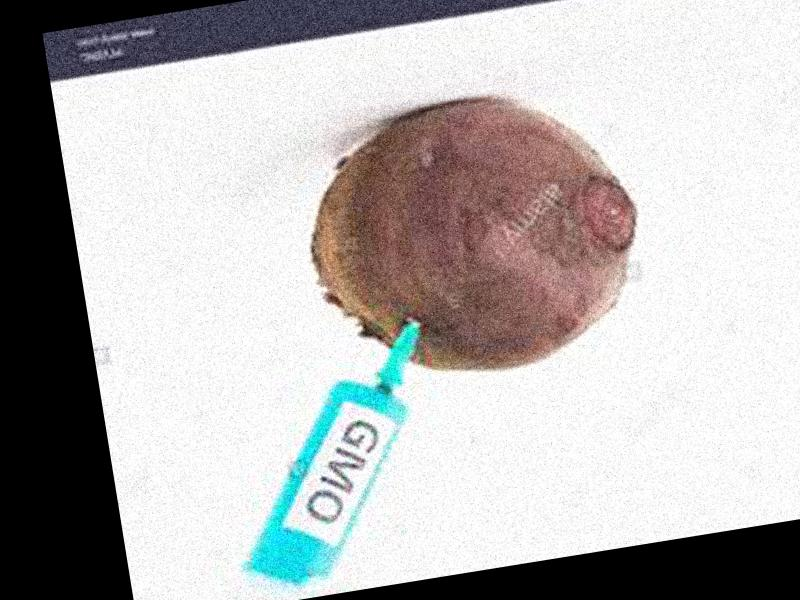Beet: (297, 74, 655, 396)
